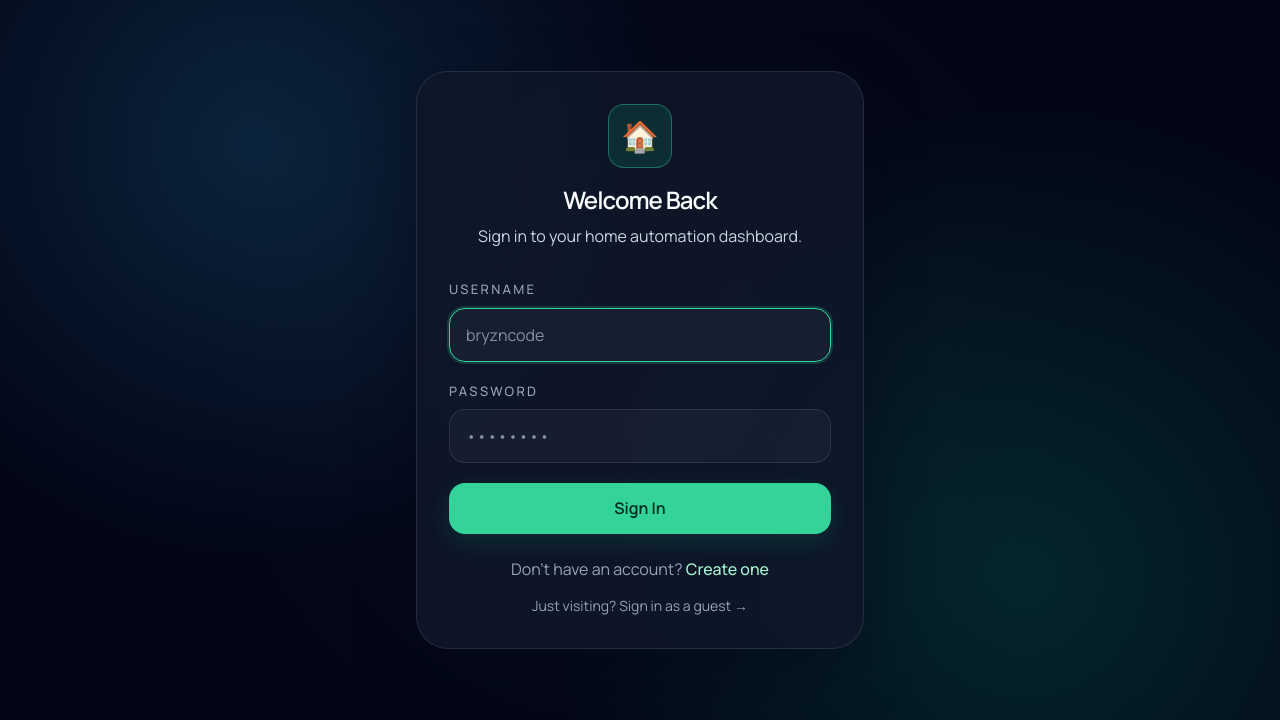
Login page › should show error on failed login
Type "wrong" into the field labelled "Username" at (640, 335), box [449,308,831,362]
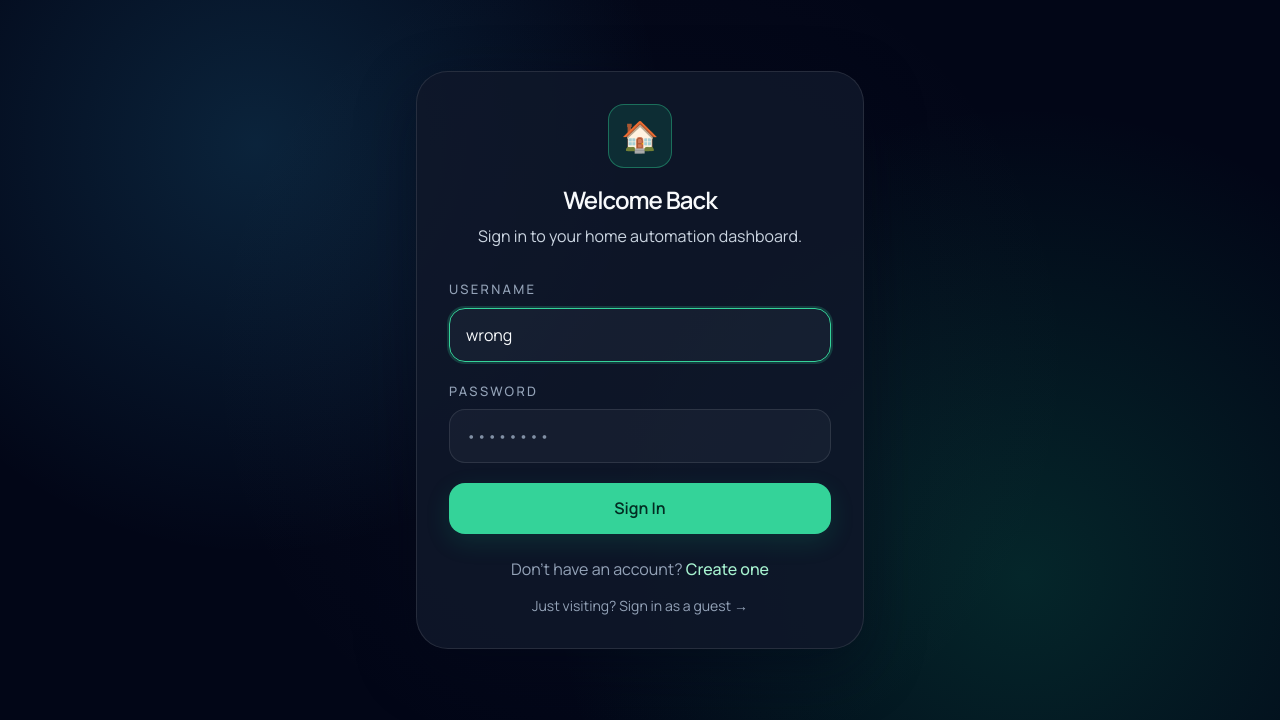
Type "wrong" into the password field labelled "Password" at (640, 436), box [449,409,831,463]
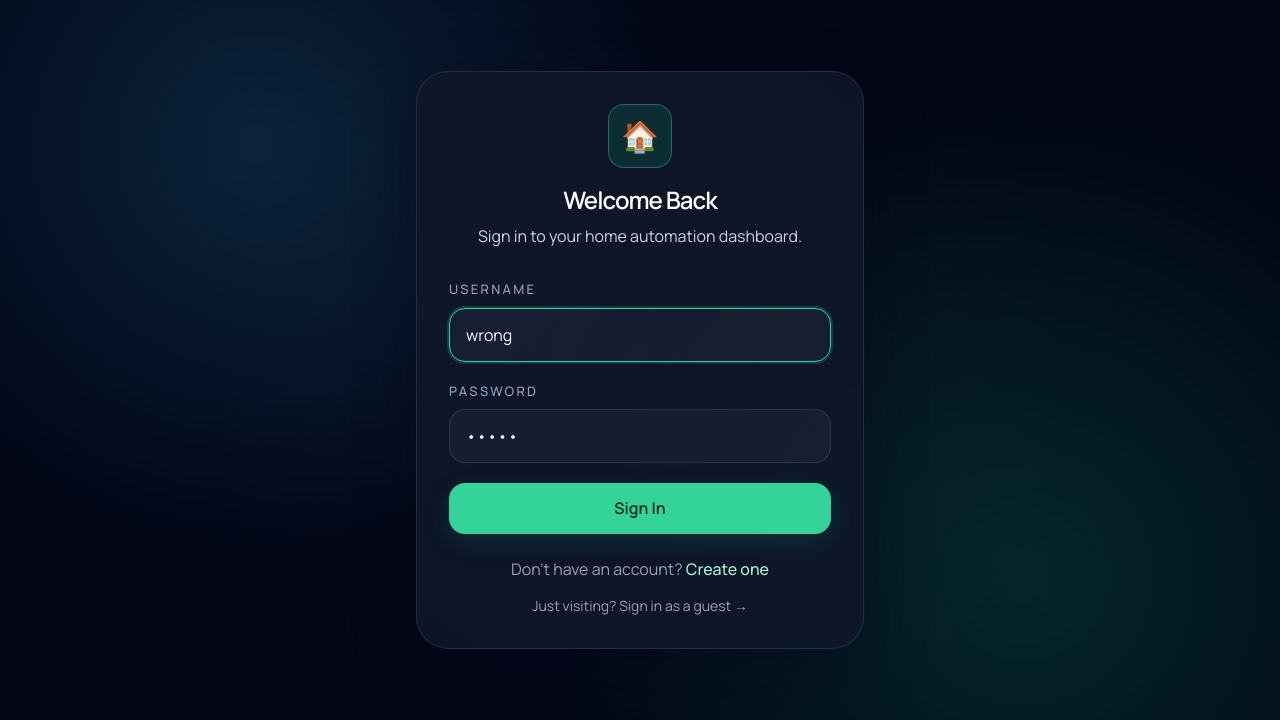
Click the button "Sign In" at (640, 509), box [449,483,831,534]
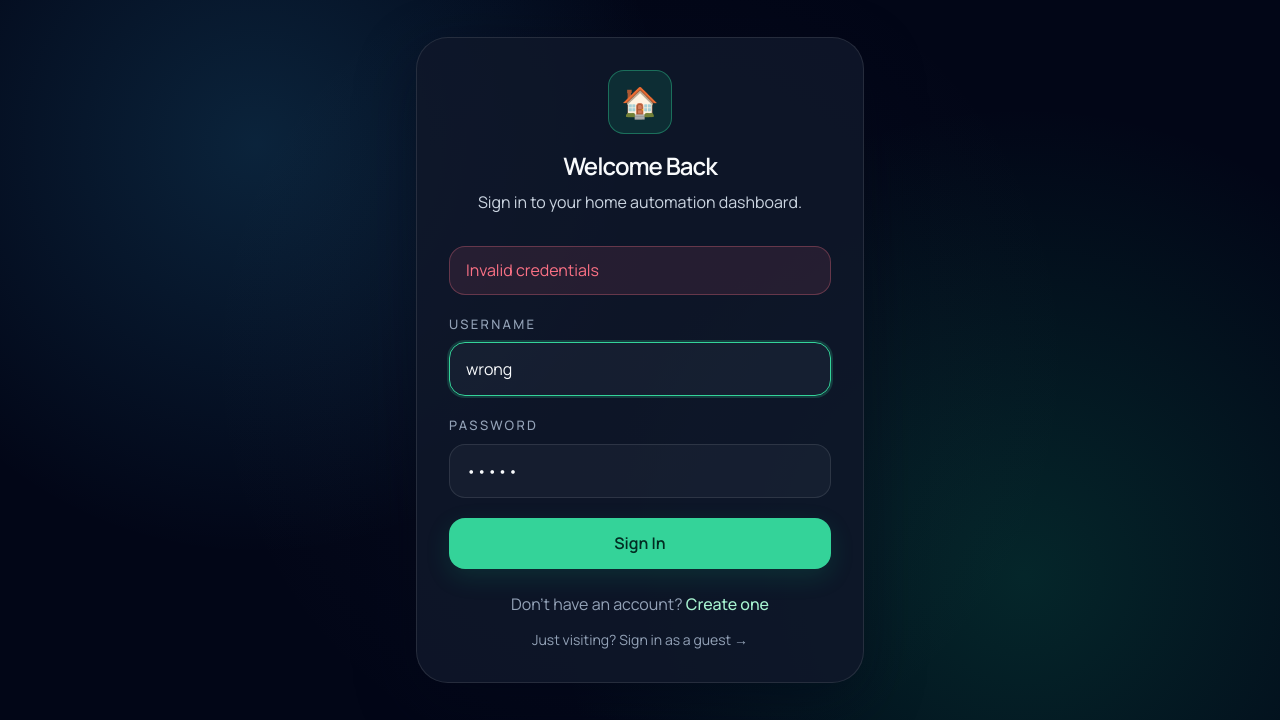
expect the text "Invalid credentials" is shown: met, box [449,246,831,295]
